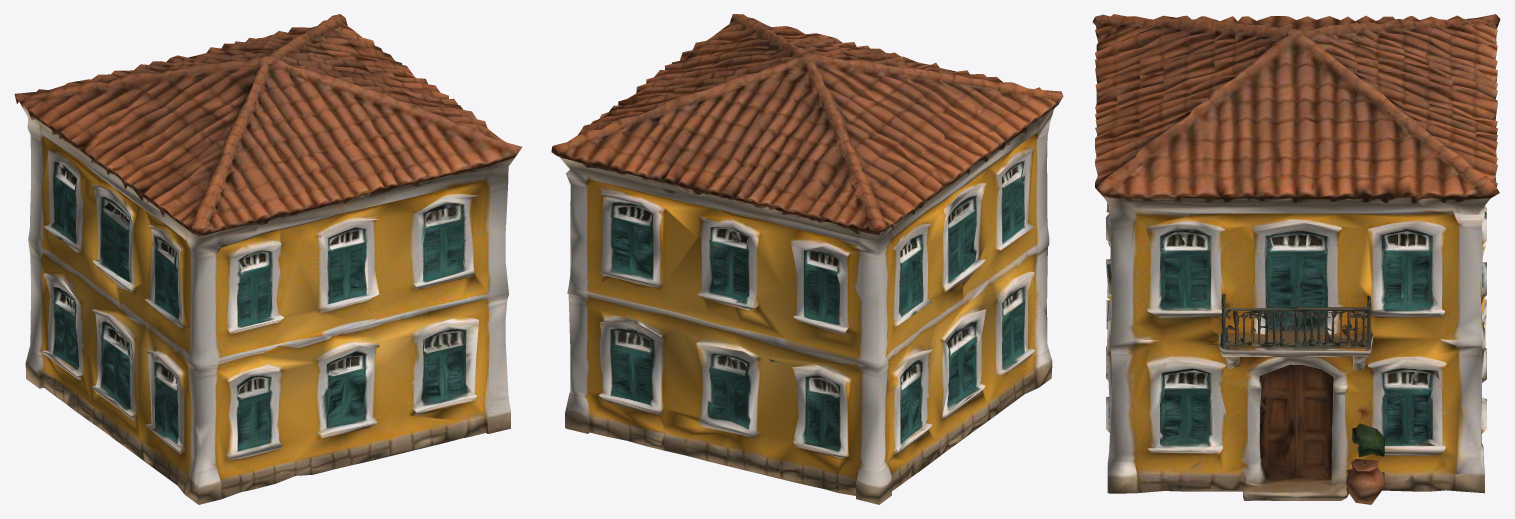
File: casa-colonial.glb
The picture shows the model from 3 angles, left to right: view 1: azimuth 30°, elevation 25°; view 2: azimuth 150°, elevation 25°; view 3: azimuth 270°, elevation 25°; orthographic projection. The views are drawn at different scales.
Parts seen in each view (by area): view 1: tripo_node_0db45197-3cf7-4e74-ab0b-b6688a8d53d5; view 2: tripo_node_0db45197-3cf7-4e74-ab0b-b6688a8d53d5; view 3: tripo_node_0db45197-3cf7-4e74-ab0b-b6688a8d53d5.
Part boxes in pixels (box(x1,y1,x2,y2)): tripo_node_0db45197-3cf7-4e74-ab0b-b6688a8d53d5: box(14, 14, 521, 504); tripo_node_0db45197-3cf7-4e74-ab0b-b6688a8d53d5: box(551, 14, 1063, 504); tripo_node_0db45197-3cf7-4e74-ab0b-b6688a8d53d5: box(1092, 14, 1500, 504).
Bounding box in the file's own units: 1.06 × 1 × 0.9756.
Materials: 1 (1 with a texture image).
